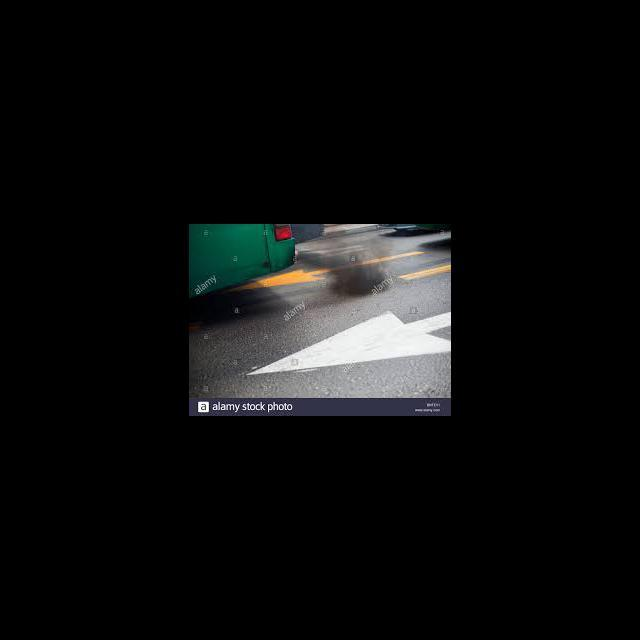Smoke: (294, 235, 392, 300)
